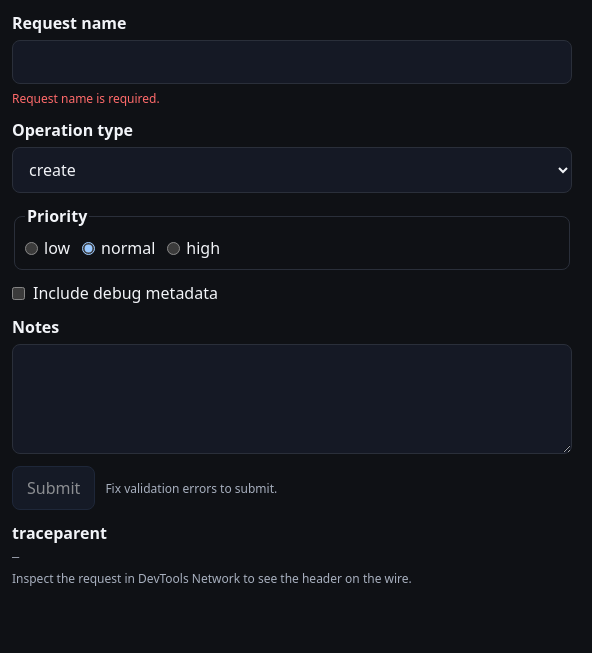
Scenario: RequestForm › shows traceparent used for a submission attempt and success state
Type "My request" into the field labelled "Request name" at point(292, 62), box x1=12 y1=40 x2=572 y2=84
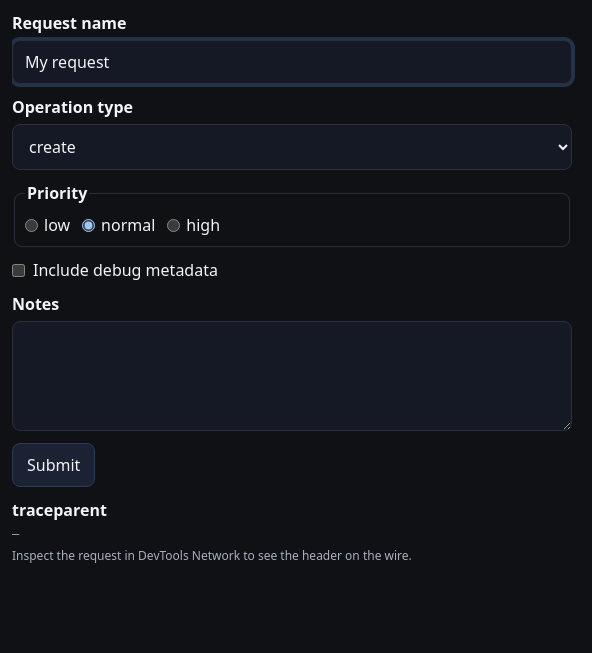
Click the button "Submit" at point(54, 465), box x1=12 y1=443 x2=95 y2=487
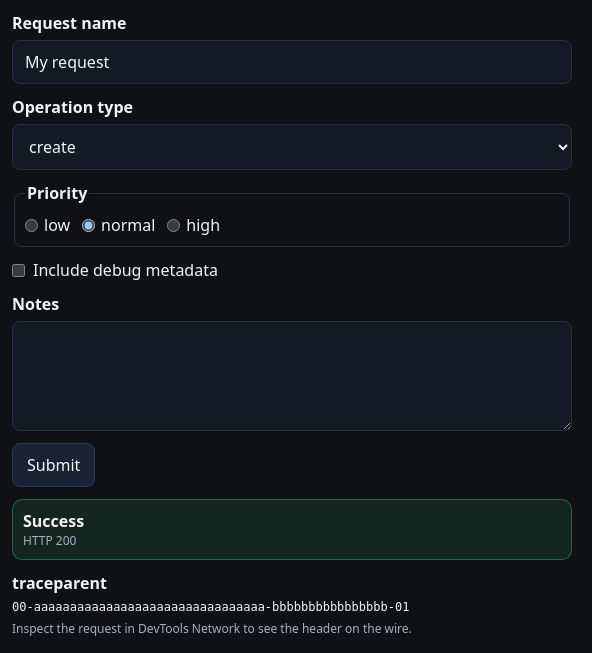
Expected: the text "Success" is shown, x1=23 y1=510 x2=84 y2=532
Expected: the text "00-aaaaaaaaaaaaaaaaaaaaaaaaaaaaaaaa-bbbbbbbbbbbbbbbb-01" is shown, x1=12 y1=600 x2=409 y2=614
